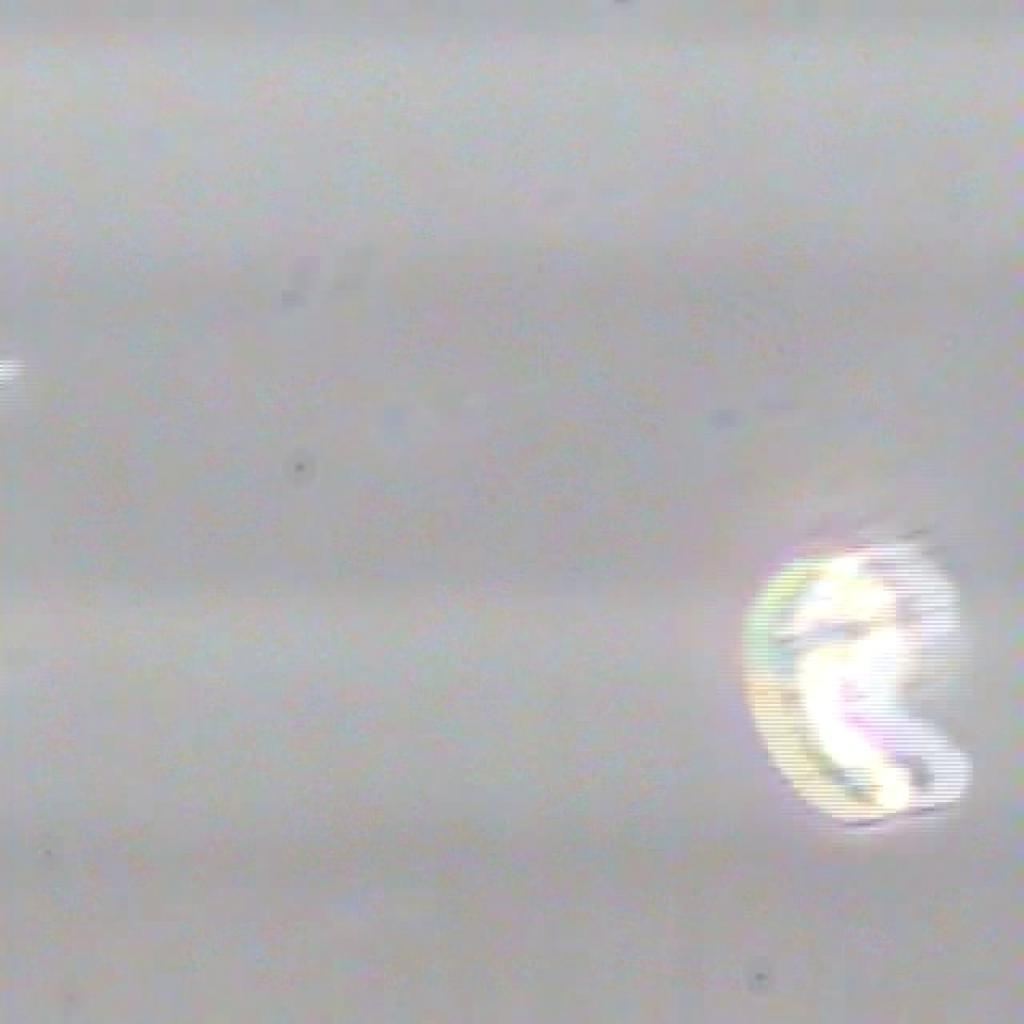Chaetonotus: (718, 510, 999, 853)
